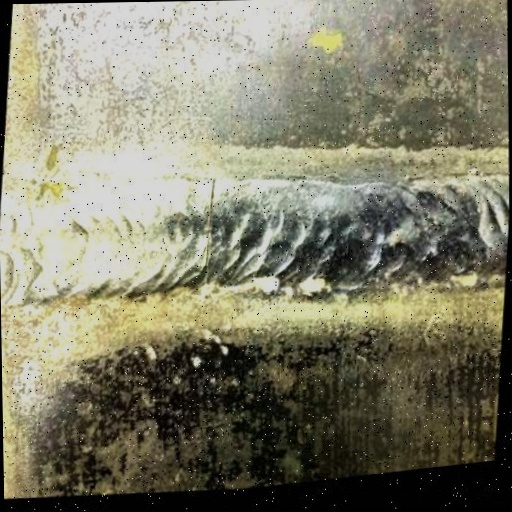crack: (185, 173, 235, 300)
